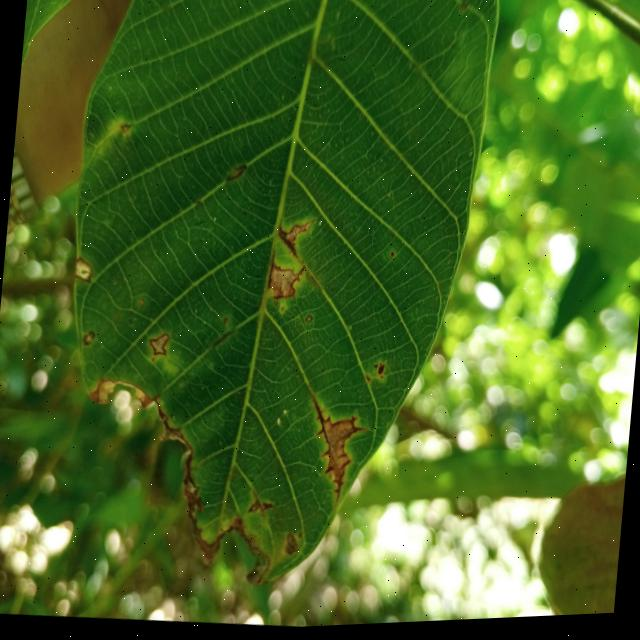Colletotrichum: (305, 315, 313, 324)
Corynespora: (301, 394, 370, 511), (276, 223, 300, 258)
Leaf-Blight: (266, 267, 298, 300), (285, 220, 313, 243), (74, 260, 93, 279), (150, 334, 168, 354)
